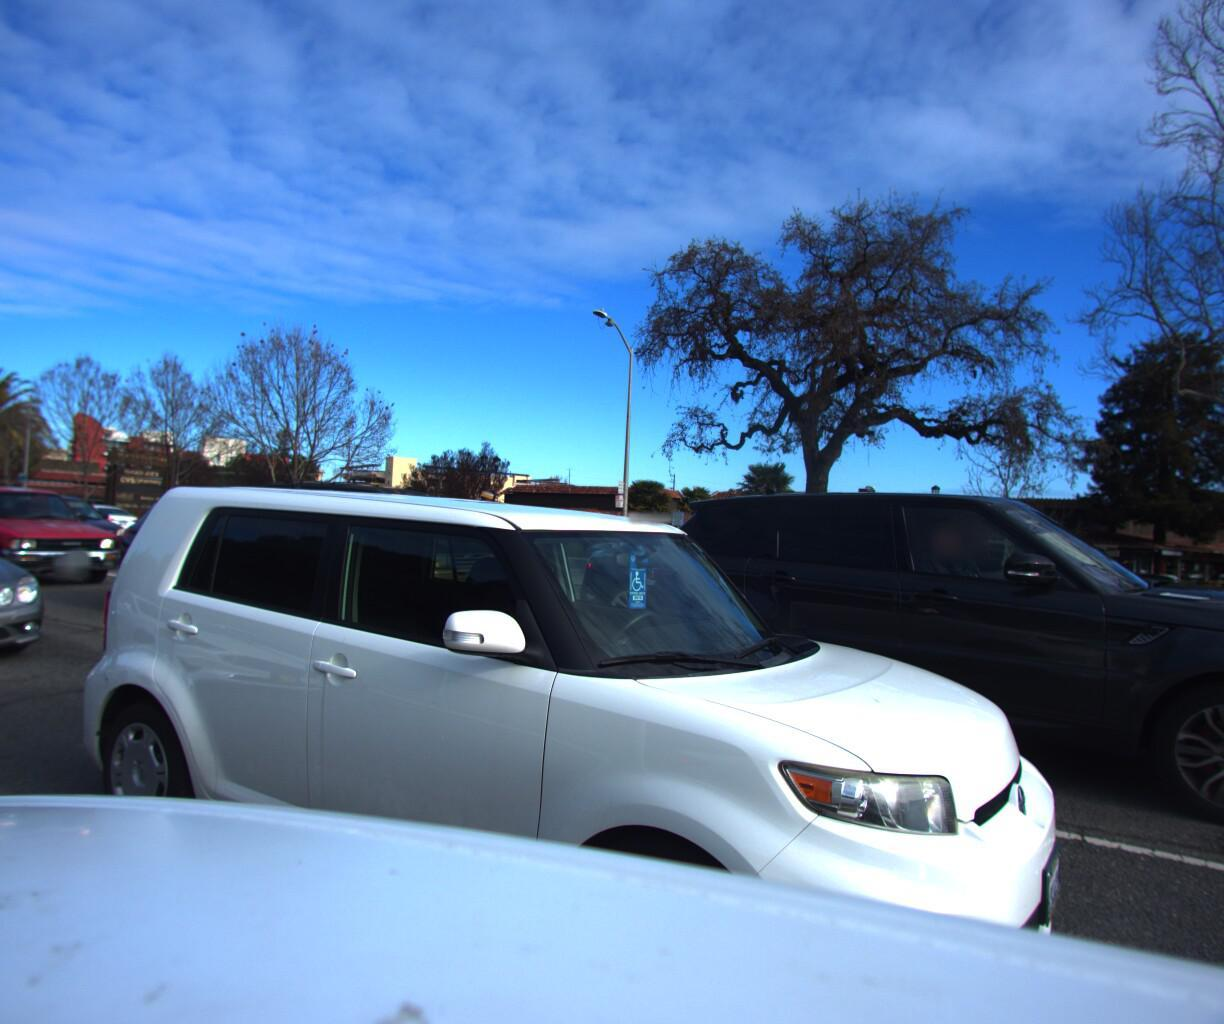car: (45, 456, 1148, 1024), (614, 470, 1224, 874), (569, 513, 998, 676), (88, 483, 428, 645), (231, 472, 521, 588), (0, 472, 120, 594), (0, 477, 66, 687), (0, 487, 142, 558), (1163, 557, 1224, 667), (426, 514, 552, 562), (37, 495, 145, 541)
truck: (0, 444, 8, 553)
